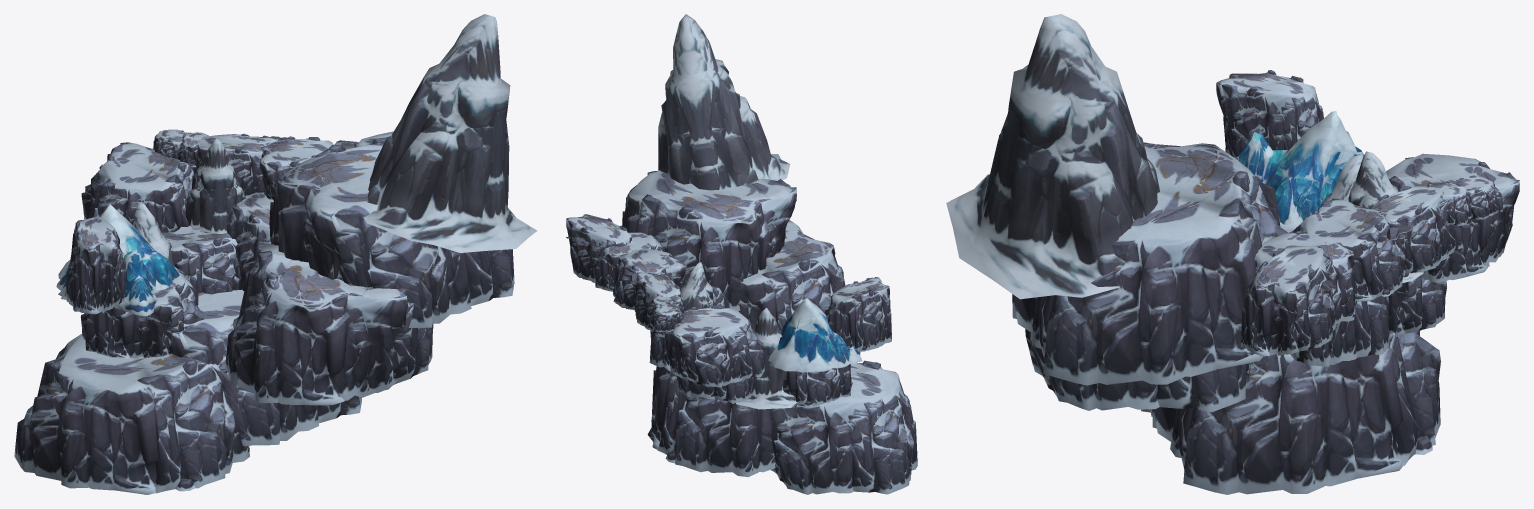
The model's file is yanshi13_1.fbx.
3 views of the same model, side by side, from view 1: azimuth 30°, elevation 25°; view 2: azimuth 150°, elevation 25°; view 3: azimuth 270°, elevation 25° (orthographic). The views are drawn at different scales.
Parts seen in each view (by area): view 1: yanshi13_1; view 2: yanshi13_1; view 3: yanshi13_1.
Boxes of the visible parts, left/top/right/bottom form: yanshi13_1: left=14, top=14, right=537, bottom=494; yanshi13_1: left=566, top=14, right=917, bottom=494; yanshi13_1: left=946, top=14, right=1519, bottom=494.
Size of the model in its own units: 4861 by 4692 by 4567.
